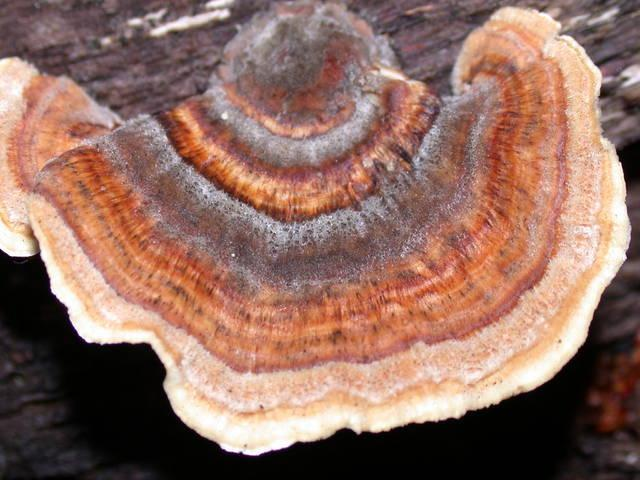Non-edible Mushroom: (19, 0, 632, 457)
